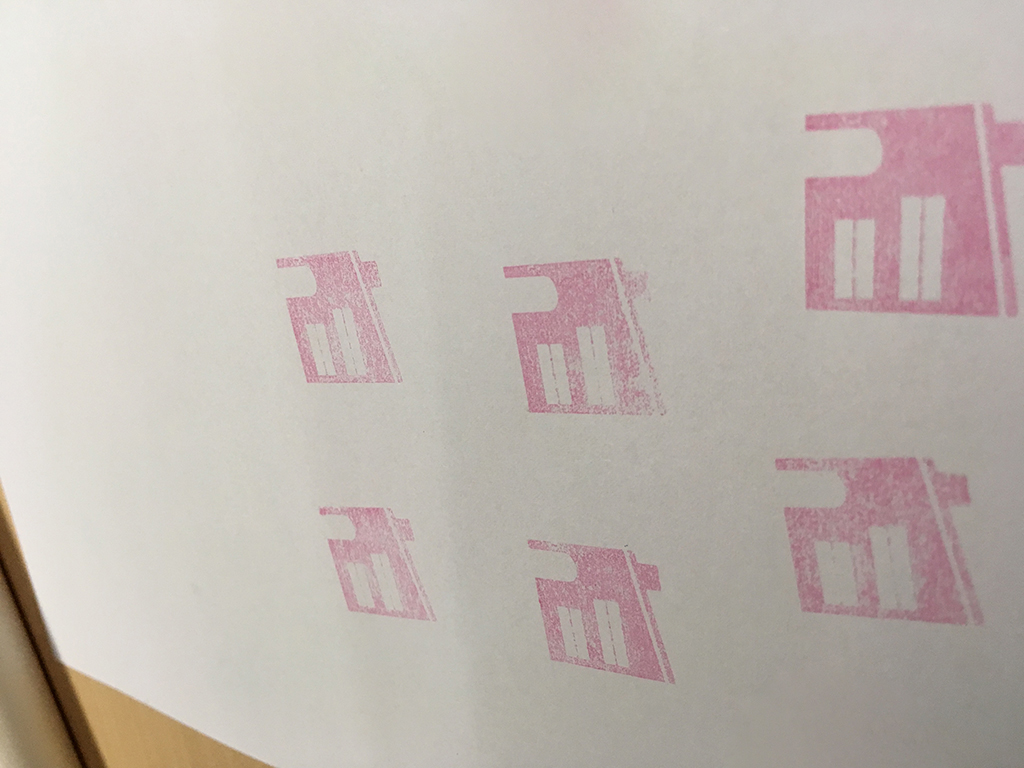house: (787, 86, 1024, 320), (763, 439, 1006, 645), (490, 251, 676, 429), (518, 527, 689, 695), (261, 241, 414, 396), (306, 493, 444, 634)
